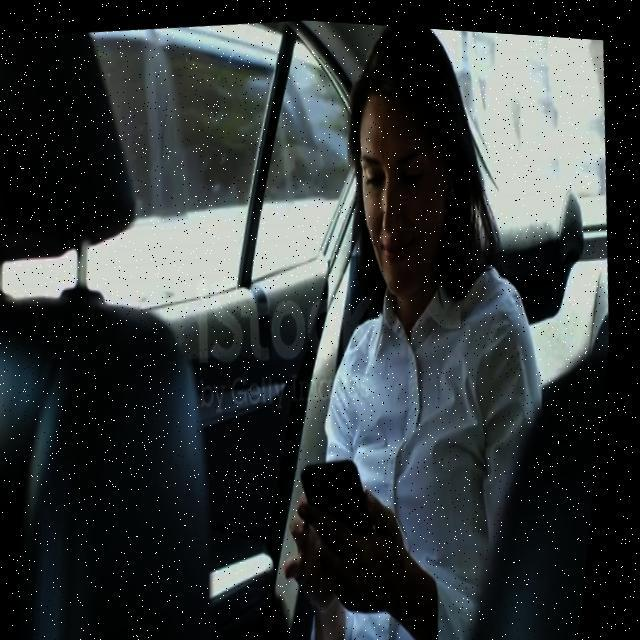PhoneCall: (300, 448, 396, 568)
